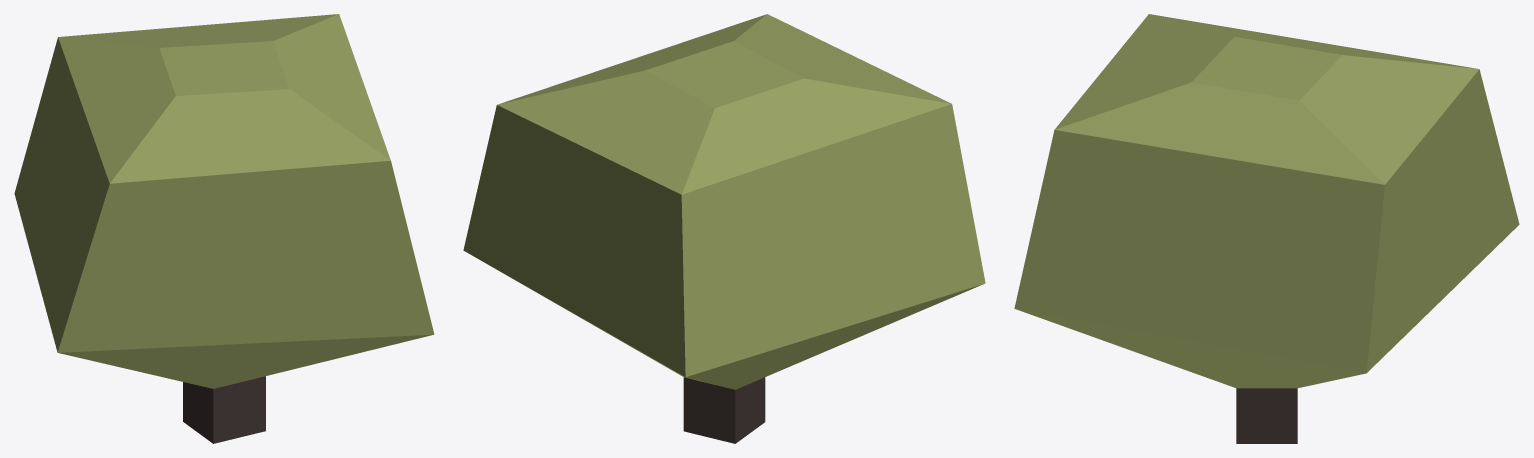
File: bush2.fbx
3 views of the same model, side by side, from view 1: azimuth 30°, elevation 25°; view 2: azimuth 150°, elevation 25°; view 3: azimuth 270°, elevation 25° (orthographic). The views are drawn at different scales.
Visible parts, largest first — view 1: bush1; view 2: bush1; view 3: bush1.
Boxes of the visible parts, bbox=[...] form: bush1: bbox=[14, 14, 434, 443]; bush1: bbox=[463, 14, 985, 443]; bush1: bbox=[1014, 14, 1519, 443].
Size of the model in its own units: 3.72 by 2.94 by 3.72.
